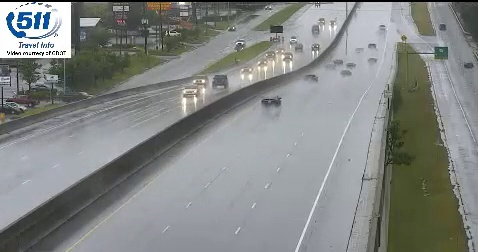car: (262, 93, 281, 108)
